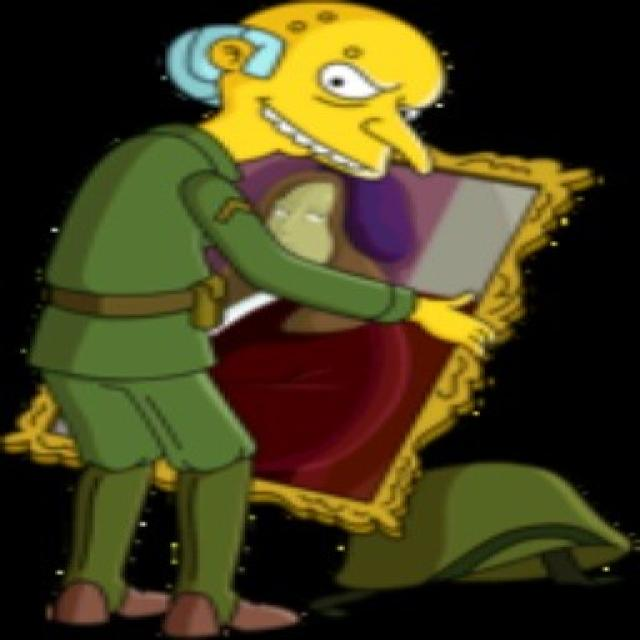Charles Montgomery Burns: (166, 0, 449, 188)
